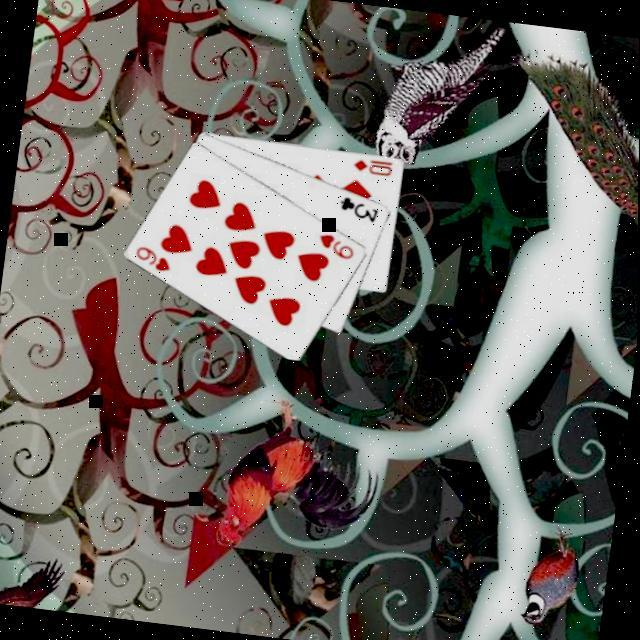10D: (351, 155, 396, 179)
3C: (336, 193, 384, 226)
9H: (315, 229, 359, 264), (131, 242, 176, 276)
